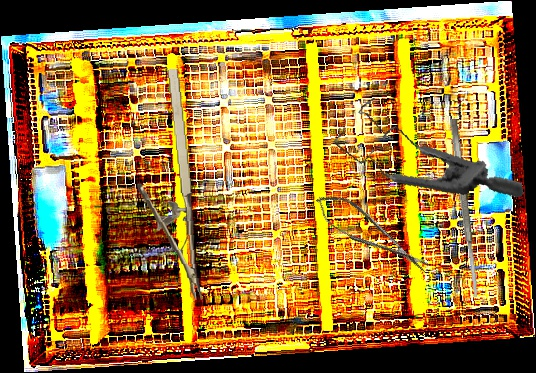Micro Scissor: (309, 184, 435, 285)
Needle Holder: (128, 68, 203, 304)
Spatula Surgical: (448, 118, 481, 298)
Speculum: (327, 73, 525, 230)
